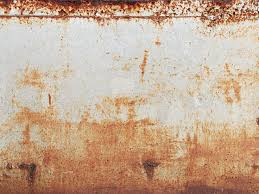rust: (2, 106, 257, 194), (1, 1, 258, 30), (139, 46, 150, 83), (44, 92, 57, 110)
